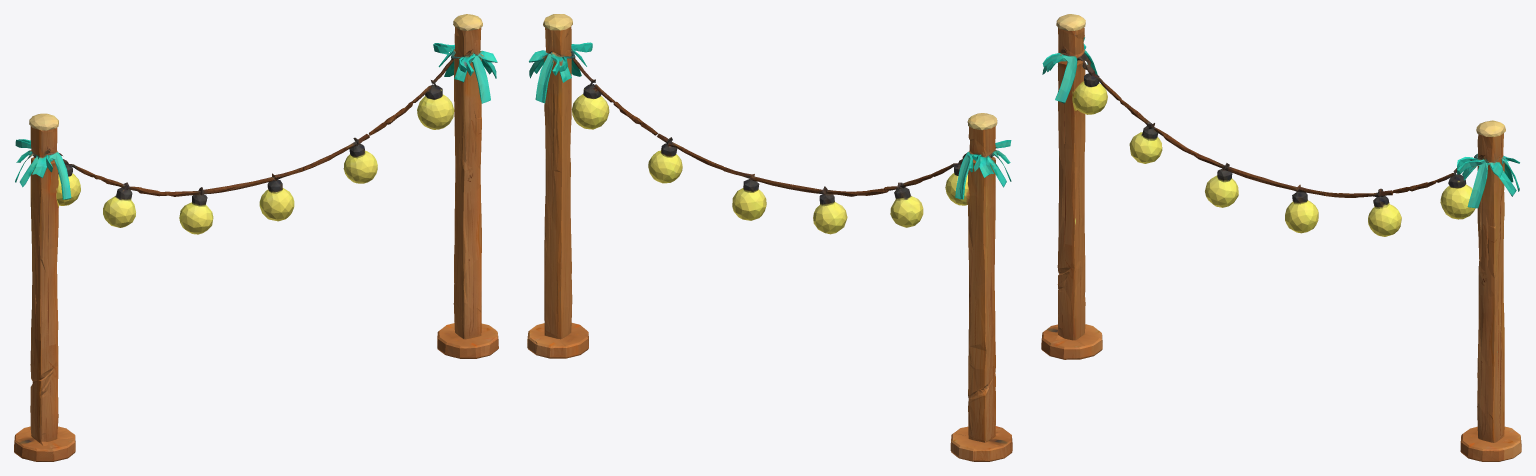
The model's file is deco_string_lights.glb.
The picture shows the model from 3 angles, left to right: view 1: azimuth 30°, elevation 25°; view 2: azimuth 150°, elevation 25°; view 3: azimuth 330°, elevation 25°; orthographic projection.
Visible parts, largest first — view 1: world; view 2: world; view 3: world.
Boxes of the visible parts, x1,y1,x2,y2 form: world: [14, 14, 498, 461]; world: [527, 14, 1012, 461]; world: [1041, 14, 1521, 461].
Size of the model in its own units: 1 by 0.6677 by 0.1423.
1 material, 1 textured.
